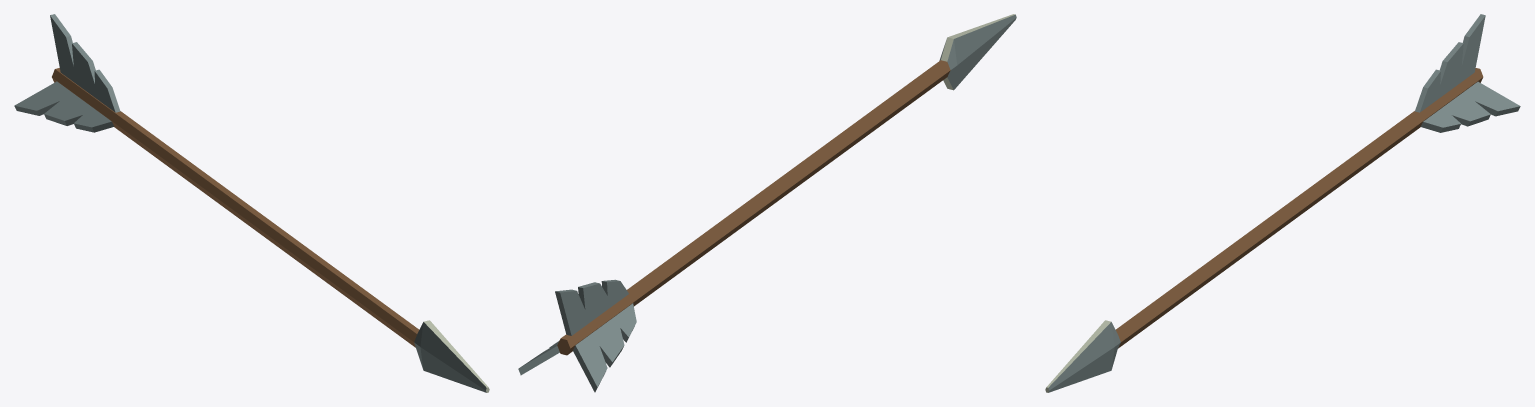
The model's file is arrow-slender-shaft.glb.
The picture shows the model from 3 angles, left to right: view 1: azimuth 30°, elevation 25°; view 2: azimuth 150°, elevation 25°; view 3: azimuth 330°, elevation 25°; orthographic projection. The views are drawn at different scales.
Visible parts, largest first — view 1: arrow-slender-shaft runtime mesh; view 2: arrow-slender-shaft runtime mesh; view 3: arrow-slender-shaft runtime mesh.
Boxes of the visible parts, box(x1,y1,x2,y2) form: arrow-slender-shaft runtime mesh: box(14, 14, 489, 392); arrow-slender-shaft runtime mesh: box(518, 14, 1016, 392); arrow-slender-shaft runtime mesh: box(1045, 14, 1520, 392).
Size of the model in its own units: 0.6461 by 0.72 by 6.44.
